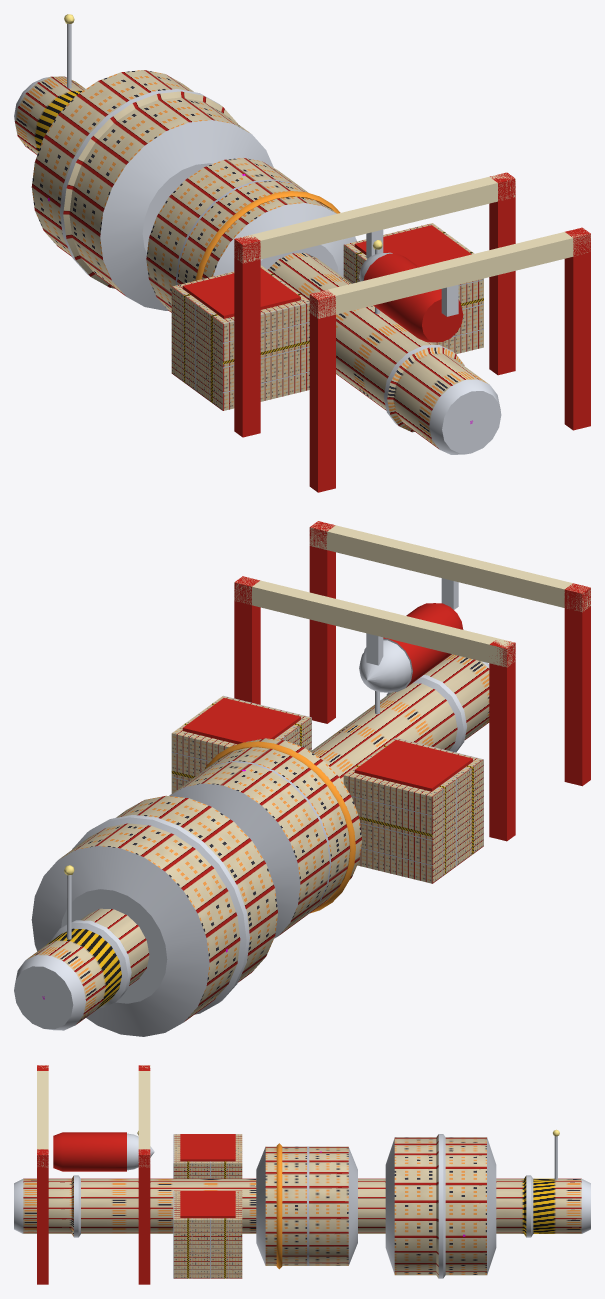
The model's file is manufacturing_center.obj.
3 renders of one model, top to bottom at view 1: azimuth 30°, elevation 25°; view 2: azimuth 150°, elevation 25°; view 3: azimuth 270°, elevation 25°, orthographic. The views are drawn at different scales.
Parts seen in each view (by area): view 1: smelter1, gantry_leg, spine, gantry_beam, smelter2, cargo_bay, bay_door, rocket_in_build, furnace_glow, gantry_hook; view 2: smelter1, spine, gantry_leg, smelter2, cargo_bay, gantry_beam, bay_door, rocket_in_build, furnace_glow, gantry_hook; view 3: spine, smelter1, smelter2, cargo_bay, gantry_leg, rocket_in_build, bay_door, gantry_beam, furnace_glow.
Part boxes in pixels (x1,y1,x2,y2): smelter1: (31, 70, 273, 310); gantry_leg: (234, 172, 590, 492); spine: (14, 76, 501, 454); gantry_beam: (234, 172, 590, 318); smelter2: (146, 158, 356, 312); cargo_bay: (171, 223, 483, 410); bay_door: (182, 225, 471, 318); rocket_in_build: (359, 252, 463, 342); furnace_glow: (195, 191, 340, 280); gantry_hook: (366, 229, 458, 316); smelter1: (31, 795, 277, 1036); spine: (14, 654, 489, 1030); gantry_leg: (234, 521, 590, 841); smelter2: (169, 738, 361, 938); cargo_bay: (171, 695, 483, 883); gantry_beam: (234, 521, 590, 667); bay_door: (182, 698, 472, 791); rocket_in_build: (359, 603, 463, 692); furnace_glow: (204, 741, 355, 913); gantry_hook: (366, 578, 458, 665); spine: (14, 1175, 590, 1237); smelter1: (385, 1134, 496, 1278); smelter2: (256, 1146, 357, 1265); cargo_bay: (173, 1134, 242, 1278); gantry_leg: (37, 1065, 150, 1284); rocket_in_build: (53, 1132, 154, 1171); bay_door: (180, 1134, 235, 1217); gantry_beam: (37, 1065, 150, 1167); furnace_glow: (276, 1143, 282, 1269).
Bounding box in the file's own units: 92 × 77.5 × 250.
Materials: 7 (1 with a texture image).
